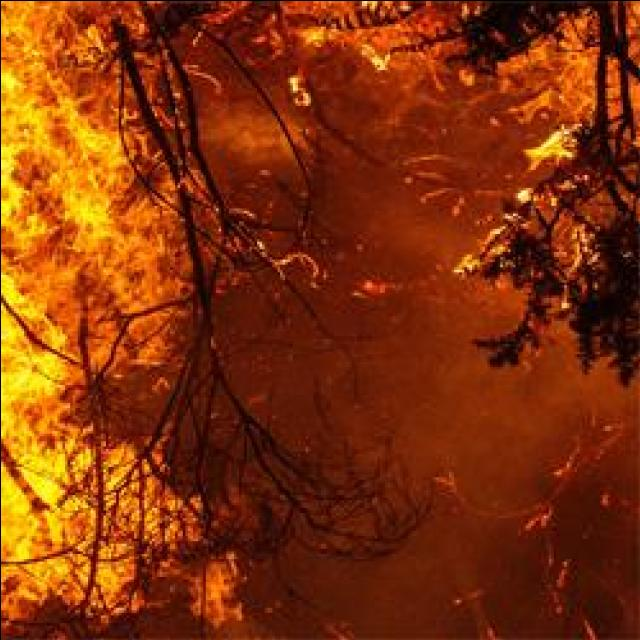fire: (0, 427, 181, 601), (0, 2, 64, 268), (30, 126, 112, 240), (526, 124, 572, 160)
smoke: (312, 560, 448, 636)
